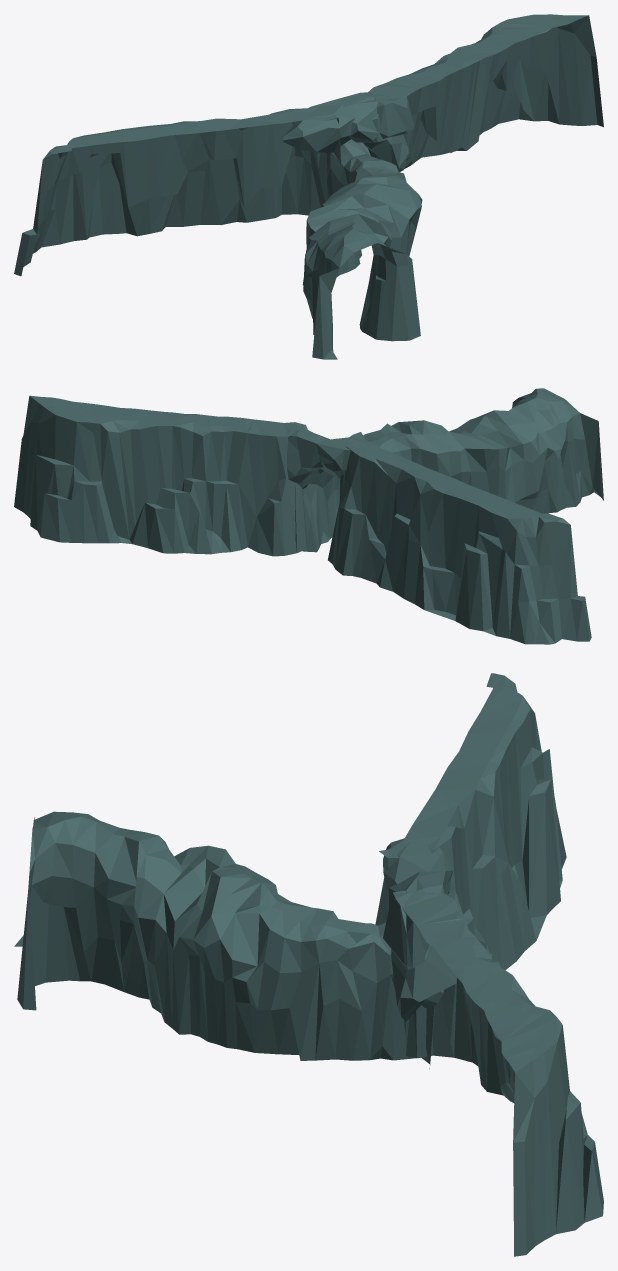
File: Door&Cave1.fbx
3 renders of one model, top to bottom at view 1: azimuth 30°, elevation 25°; view 2: azimuth 150°, elevation 25°; view 3: azimuth 270°, elevation 25°, orthographic. The views are drawn at different scales.
Visible parts, largest first — view 1: Door_Cave1; view 2: Door_Cave1; view 3: Door_Cave1.
Part boxes in pixels (x1=…): Door_Cave1: x1=14, y1=14, x2=603, y2=359; Door_Cave1: x1=14, y1=388, x2=603, y2=644; Door_Cave1: x1=14, y1=673, x2=603, y2=1256.
Size of the model in its own units: 47098 by 9299 by 27058.
